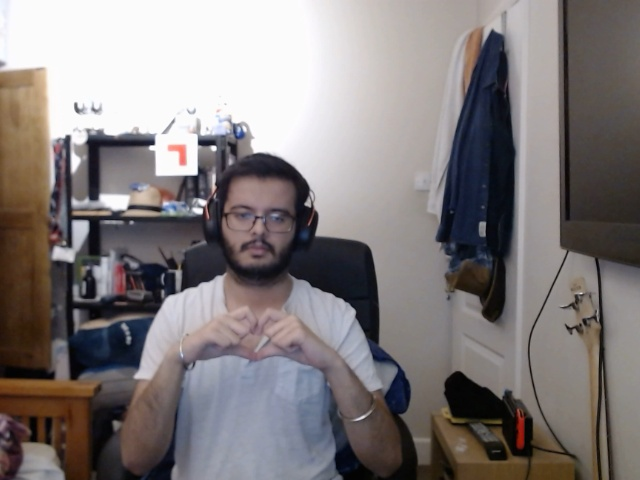Heart: (180, 302, 331, 370)
